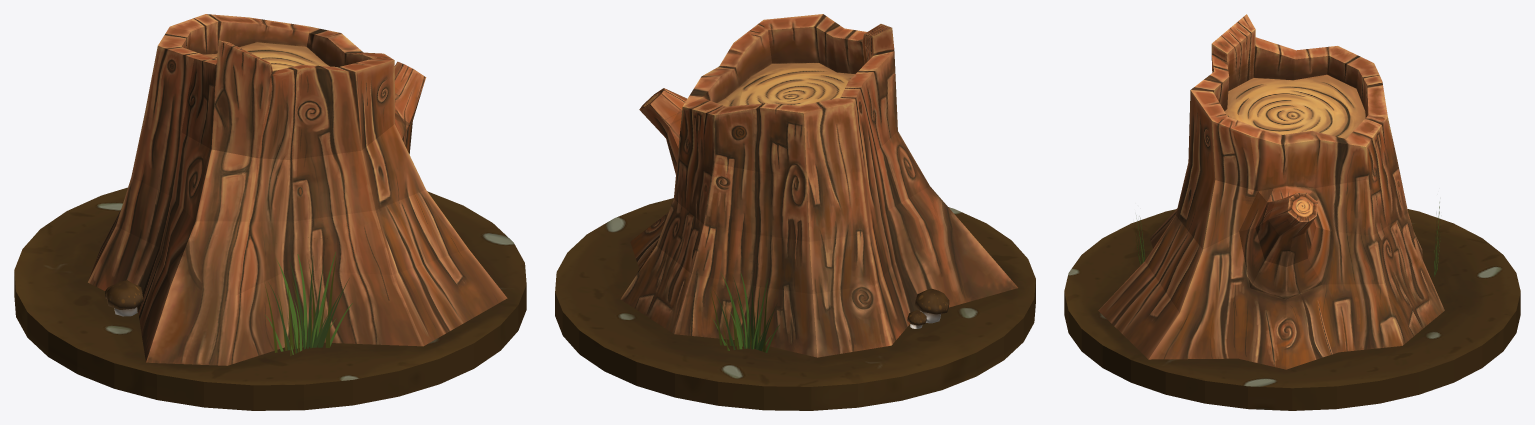
File: tree-stump.glb
3 renders of one model, left to right at view 1: azimuth 30°, elevation 25°; view 2: azimuth 150°, elevation 25°; view 3: azimuth 270°, elevation 25°, orthographic. The views are drawn at different scales.
Visible parts, largest first — view 1: Object_2, Object_3, Object_4, Object_5; view 2: Object_2, Object_3, Object_4, Object_5; view 3: Object_2, Object_3, Object_4.
Part boxes in pixels (x1,y1,x2,y2): Object_2: (88,14,507,365); Object_3: (14,187,526,410); Object_4: (264,252,352,355); Object_5: (105,280,143,316); Object_2: (620,14,1017,357); Object_3: (555,198,1035,410); Object_4: (710,273,779,352); Object_5: (907,288,949,328); Object_2: (1098,14,1444,369); Object_3: (1064,209,1520,410); Object_4: (1135,202,1440,276).
Bounding box in the file's own units: 6 × 3.87 × 6.
4 materials, 4 textured.
